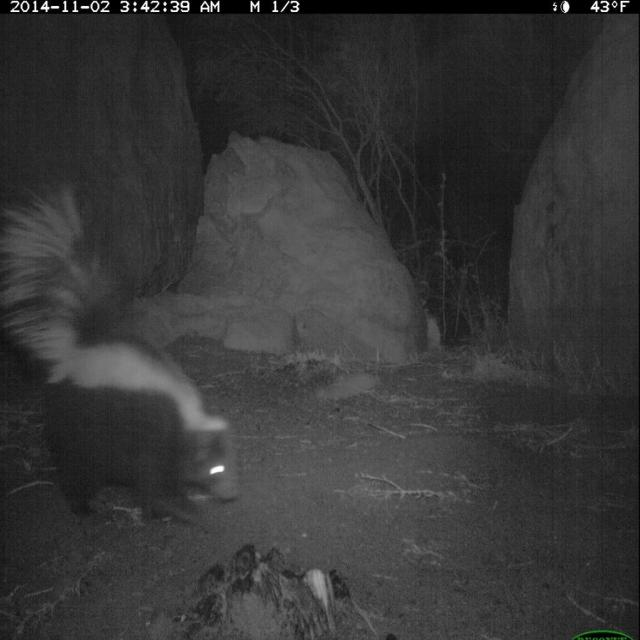skunk: (1, 171, 250, 535)
